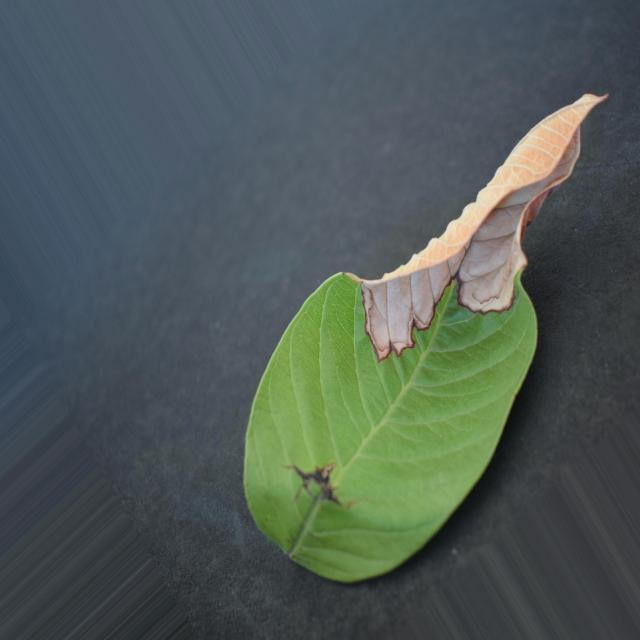Mummification: (244, 94, 605, 581)
